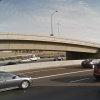Bridge: (5, 15, 91, 60)
